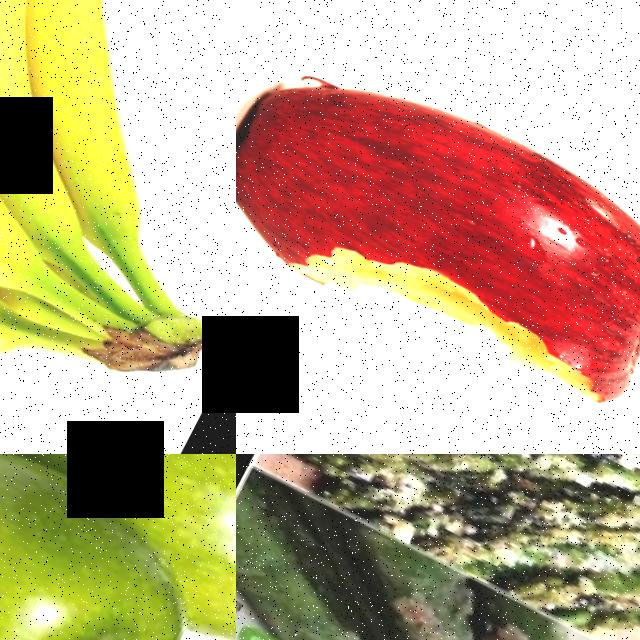apple: (236, 29, 640, 454), (0, 454, 235, 640), (0, 454, 236, 620)
banana: (0, 0, 236, 454)
